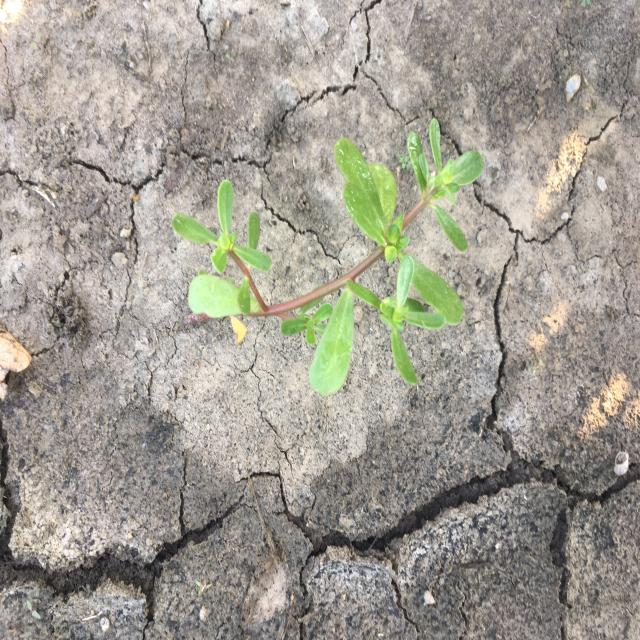Purslane: (170, 115, 486, 400)
